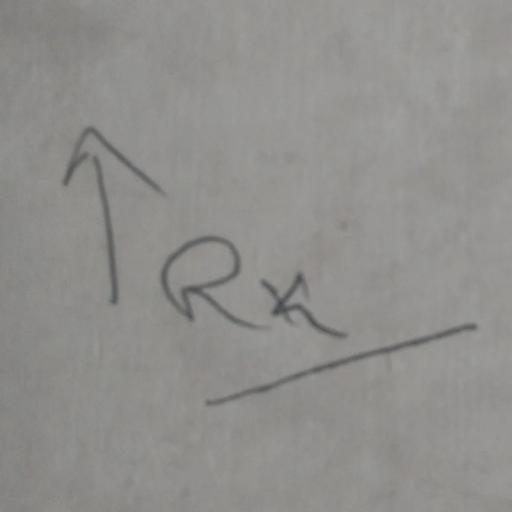stain: (46, 86, 480, 438)
